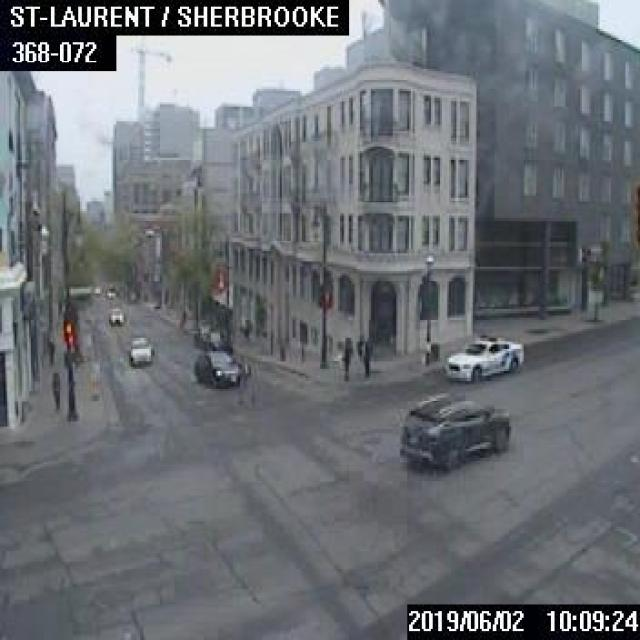pedestrian: (340, 336, 350, 378), (49, 369, 58, 407)
vehicle: (398, 389, 511, 471), (440, 333, 522, 380), (192, 351, 244, 389), (127, 333, 151, 362), (203, 331, 231, 353), (193, 326, 210, 347), (107, 306, 124, 324), (105, 284, 115, 296)
